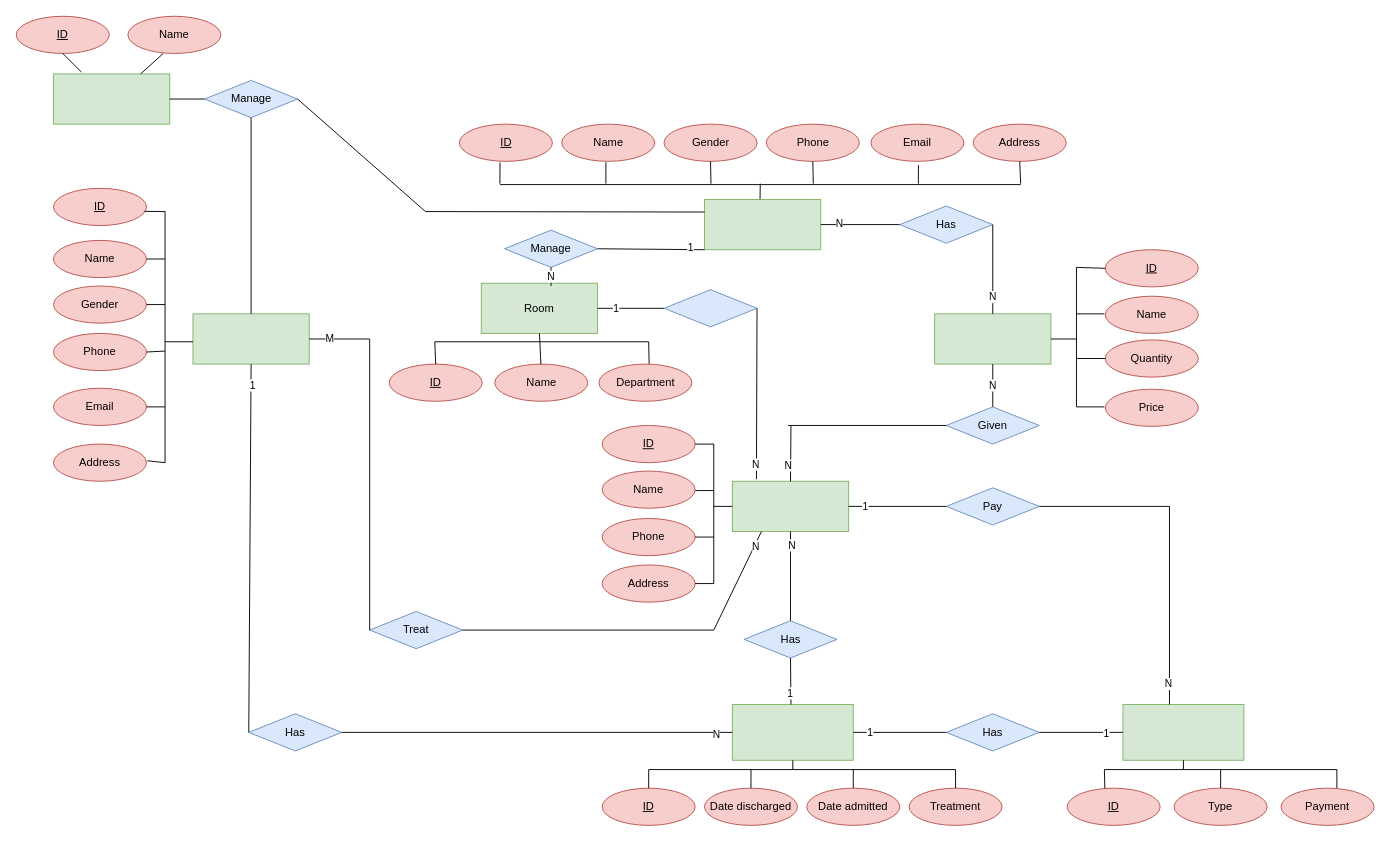
Some shapes in this 1390 by 842 pixel diagram are drawn without their labels. Here are the shapes that lost their labels. From the top down, the box of each, then its label:
(53, 73, 170, 124): Admin
(704, 199, 821, 250): Nurse
(663, 289, 757, 327): Assign
(192, 313, 309, 364): Doctor
(934, 313, 1051, 364): Medicine
(731, 480, 849, 531): Patient
(731, 704, 853, 760): Medical Record
(1122, 704, 1244, 760): Bill
